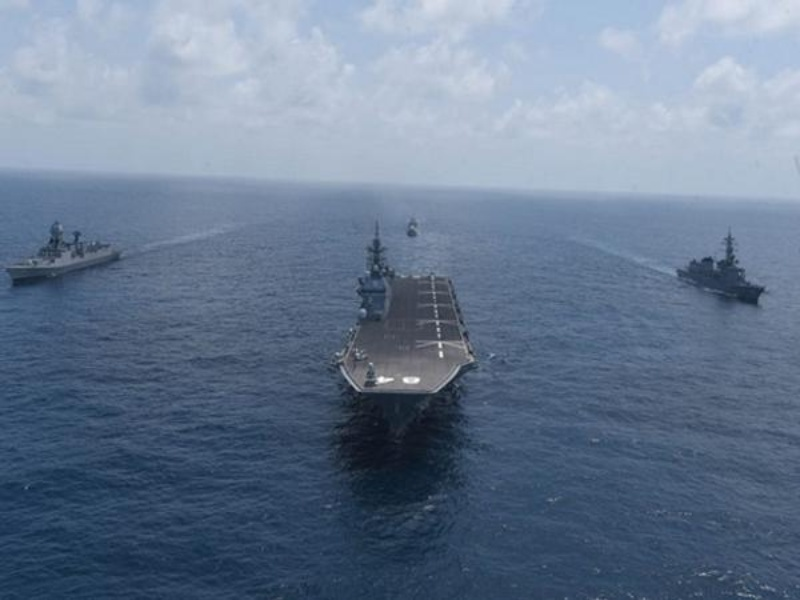carrier: (347, 253, 467, 436)
cruise: (679, 233, 768, 304), (18, 229, 123, 283), (402, 212, 423, 236)
